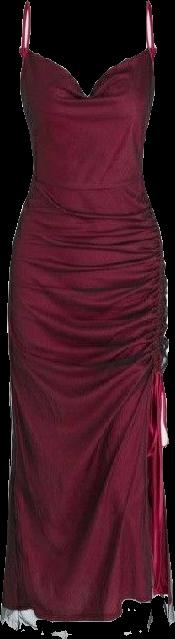Bodice: (19, 0, 156, 194)
Hemline: (0, 585, 174, 624)
Neckline: (21, 0, 154, 99)
Skirt: (1, 179, 172, 622)
Waistline: (29, 176, 145, 198)
